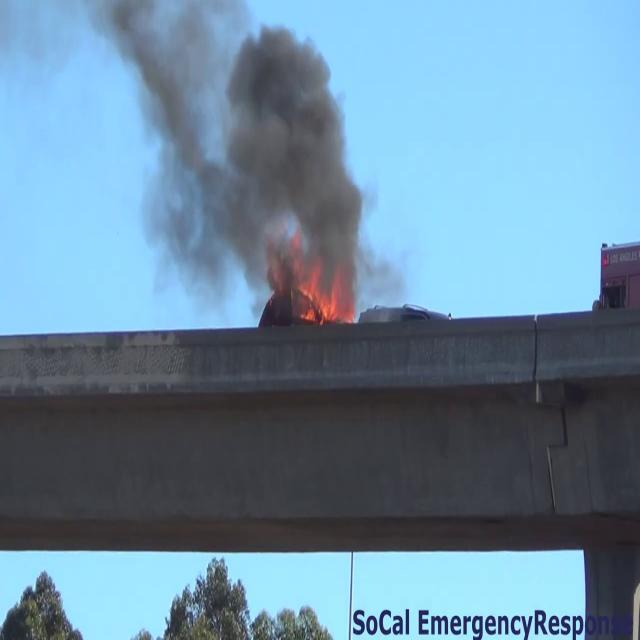Smoke: (1, 0, 372, 310), (101, 2, 371, 300)
